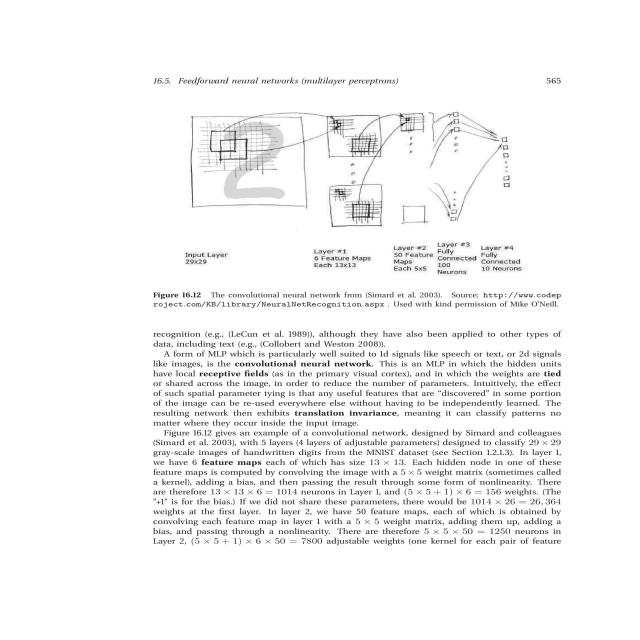diagram: (98, 91, 612, 322)
